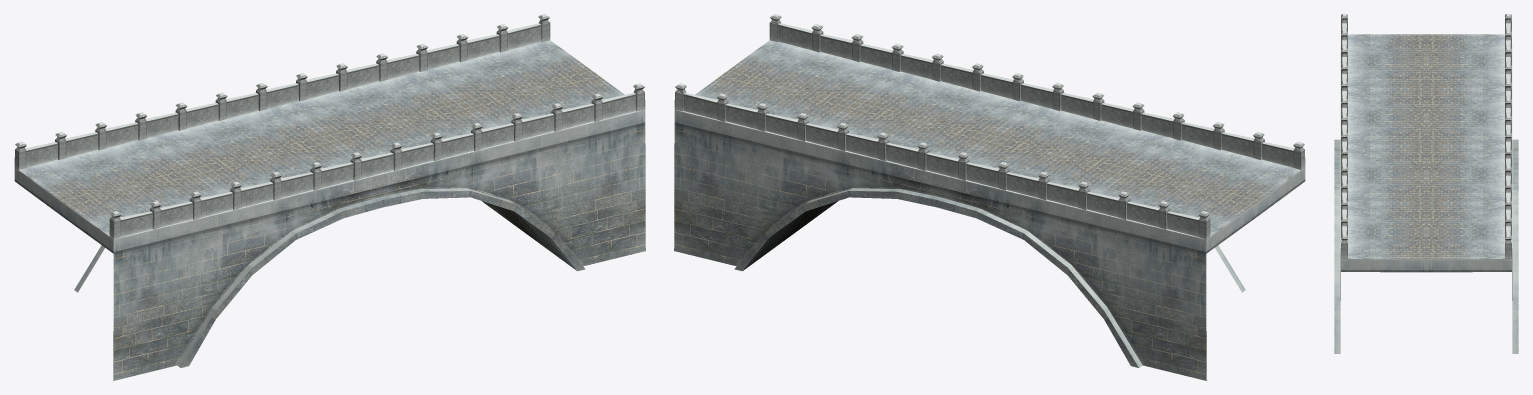
Rendered from whitdragonvalley_bridge.glb.
The picture shows the model from 3 angles, left to right: view 1: azimuth 30°, elevation 25°; view 2: azimuth 150°, elevation 25°; view 3: azimuth 270°, elevation 25°; orthographic projection. The views are drawn at different scales.
Parts seen in each view (by area): view 1: a1-022-10m-bridge; view 2: a1-022-10m-bridge; view 3: a1-022-10m-bridge.
Part boxes in pixels (left/top/right/bottom): a1-022-10m-bridge: left=14, top=14, right=645, bottom=380; a1-022-10m-bridge: left=674, top=14, right=1305, bottom=380; a1-022-10m-bridge: left=1334, top=14, right=1518, bottom=353.
Bounding box in the file's own units: 39.46 × 11.76 × 13.69.
1 material, 1 textured.
